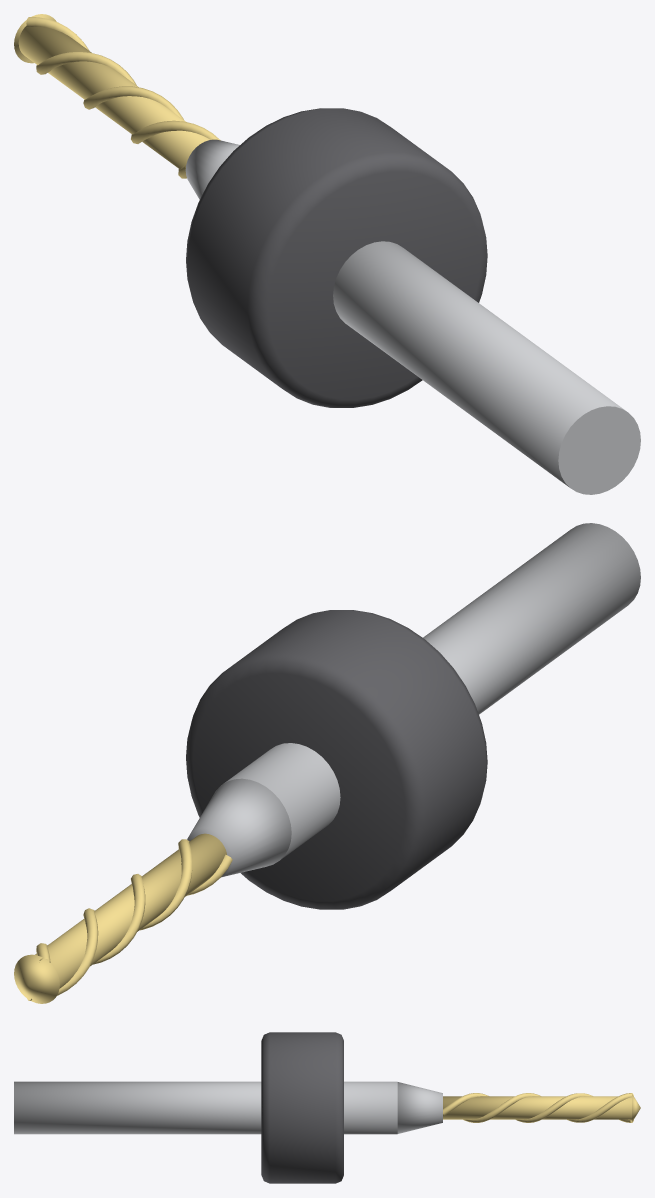
The model's file is drill18_1p8.glb.
The picture shows the model from 3 angles, top to bottom: view 1: azimuth 30°, elevation 25°; view 2: azimuth 150°, elevation 25°; view 3: azimuth 270°, elevation 25°; orthographic projection. The views are drawn at different scales.
Parts seen in each view (by area): view 1: Cylinder.002, Cylinder.001, Cylinder, flute, Cone, flute.001; view 2: Cylinder.002, Cylinder.001, Cylinder, Cone, flute, Cone.001, flute.001; view 3: Cylinder.001, Cylinder.002, Cylinder, Cone, flute.001, flute.
Part boxes in pixels (x1,y1,x2,y2): Cylinder.002: [186, 108, 487, 407]; Cylinder.001: [333, 241, 640, 494]; Cylinder: [18, 25, 209, 170]; flute: [36, 52, 220, 143]; Cone: [185, 139, 239, 199]; flute.001: [26, 17, 186, 178]; Cylinder.002: [186, 610, 487, 909]; Cylinder.001: [223, 523, 640, 859]; Cylinder: [35, 833, 226, 988]; Cone: [187, 778, 291, 877]; flute: [27, 839, 192, 1000]; Cone.001: [14, 954, 59, 1003]; flute.001: [36, 854, 232, 964]; Cylinder.001: [14, 1081, 397, 1134]; Cylinder.002: [261, 1032, 343, 1183]; Cylinder: [443, 1096, 631, 1119]; Cone: [397, 1082, 442, 1133]; flute.001: [463, 1093, 633, 1122]; flute: [443, 1093, 633, 1122].
Size of the model in its own units: 0.00917 by 0.00917 by 0.038.
